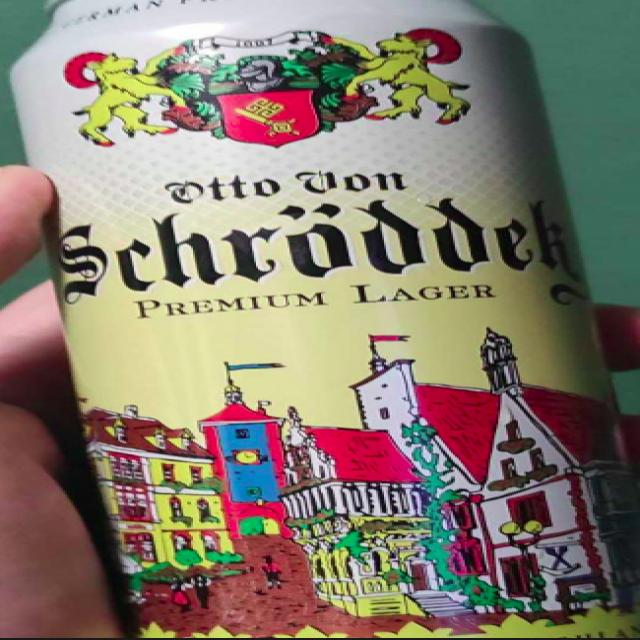Otto Von Schrodder Premium Lager: (2, 0, 640, 640)
